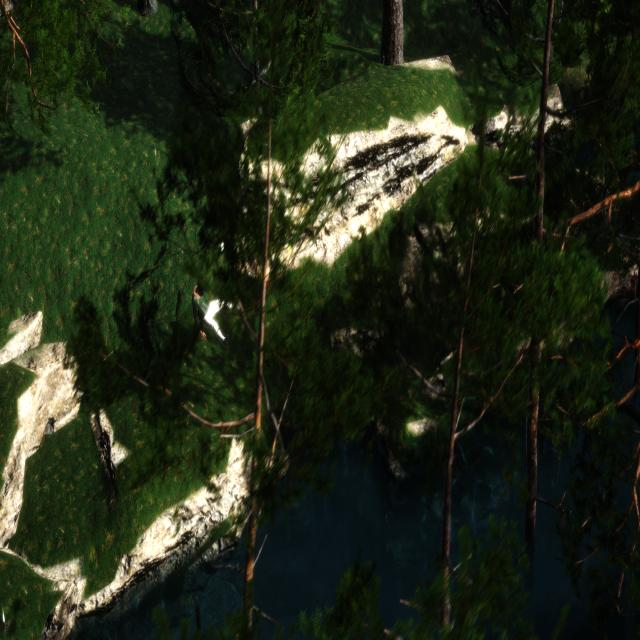Human: (187, 274, 244, 349)
